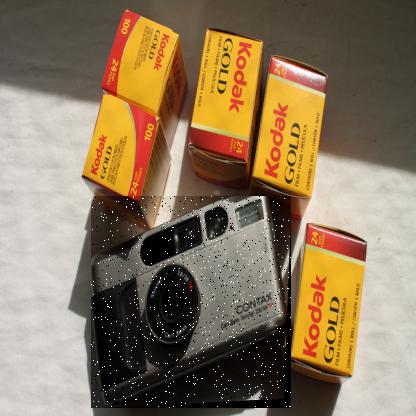Camera: (92, 197, 293, 410)
